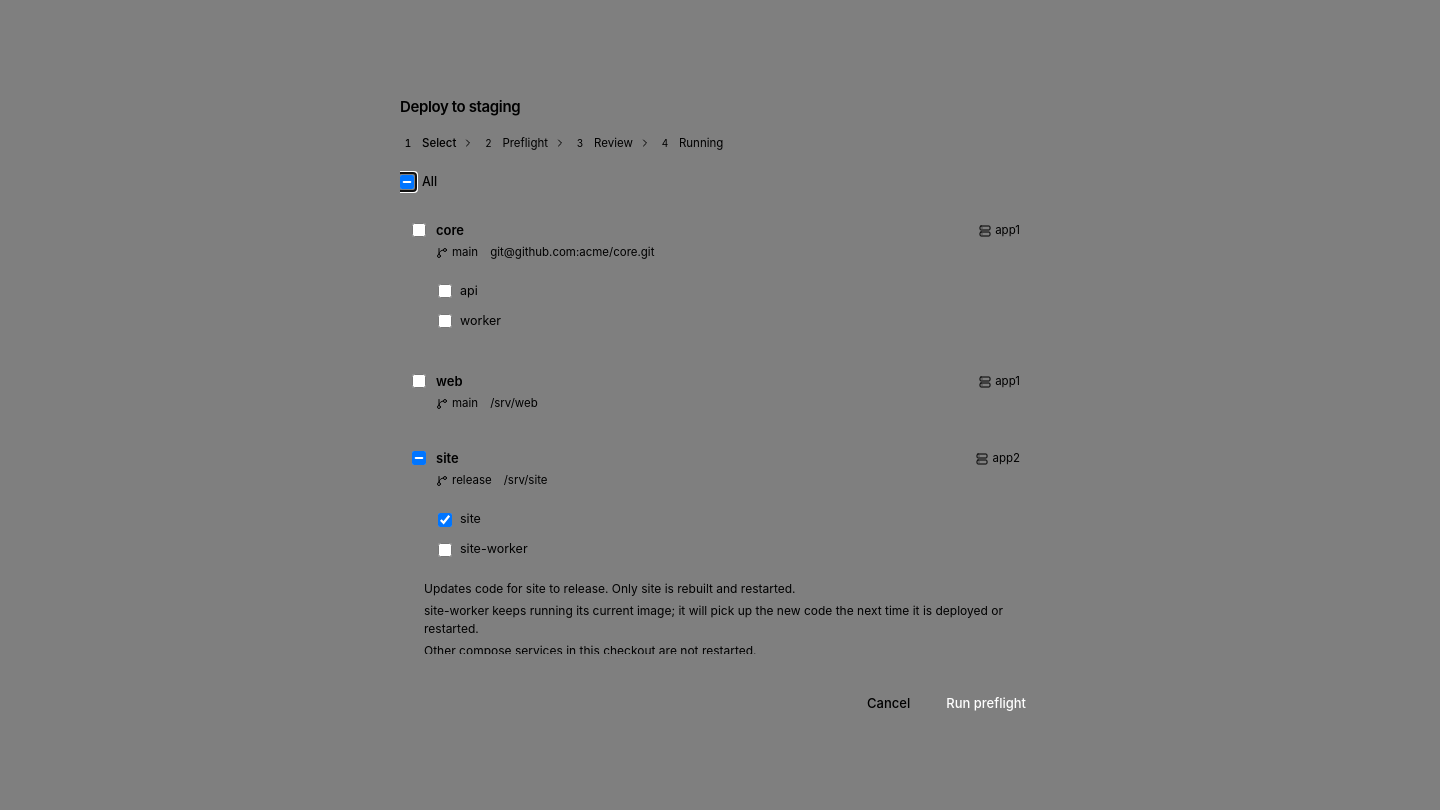
Test: deploy wizard › notice lists untracked compose services once preflight reports them, else says others are not restarted
expect the list item "Other compose services in this checkout are not restarted." is shown: met, box left=424, top=643, right=757, bottom=654
Click the button "Run preflight": (986, 704) left=932, top=686, right=1040, bottom=722
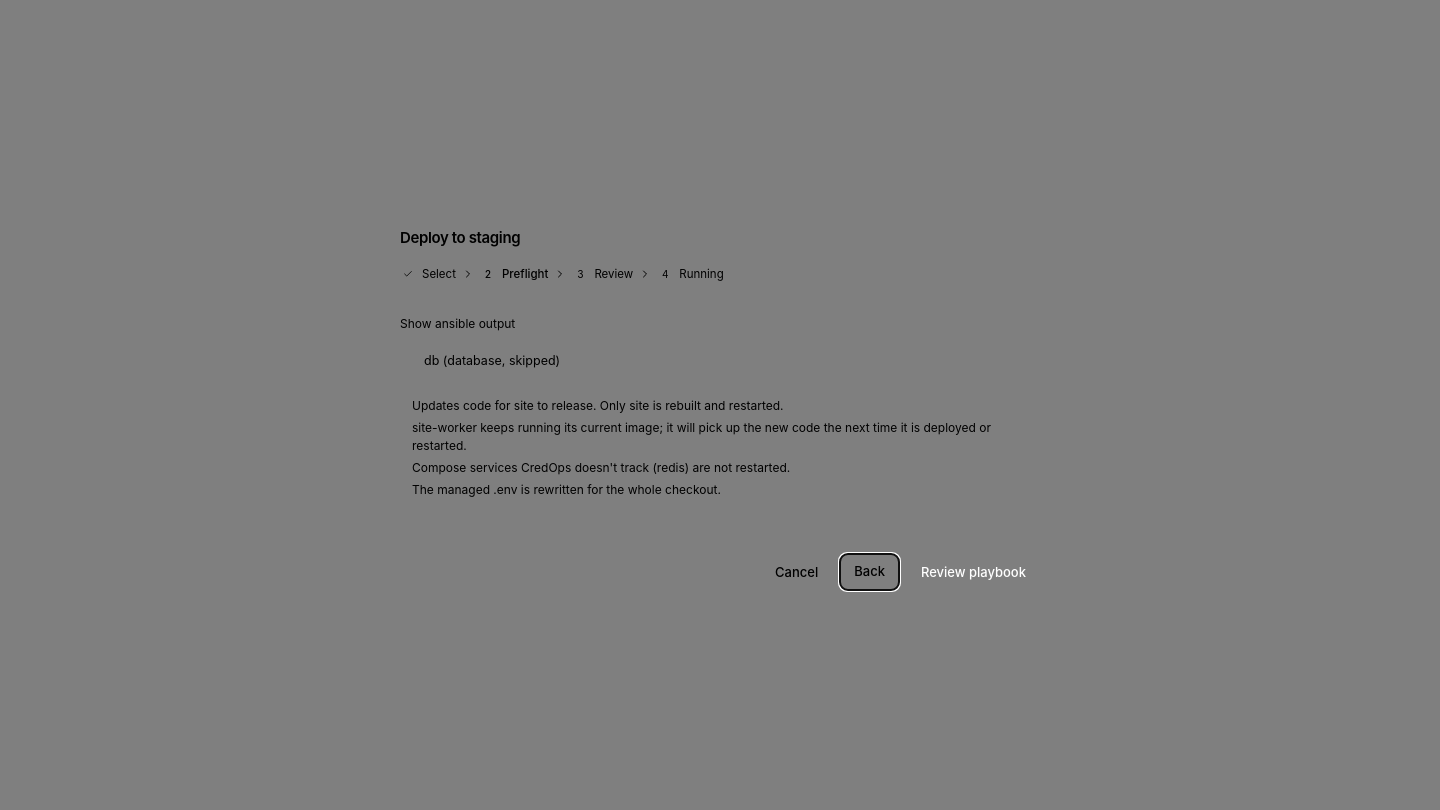
expect the list item "Compose services CredOps doesn't track (redis) are not restarted." is shown: met, box left=412, top=460, right=790, bottom=475
expect the list item "Other compose services in this checkout are not restarted." is gone: met
expect the list item "db (database, skipped)" is shown: met, box left=424, top=353, right=560, bottom=368
